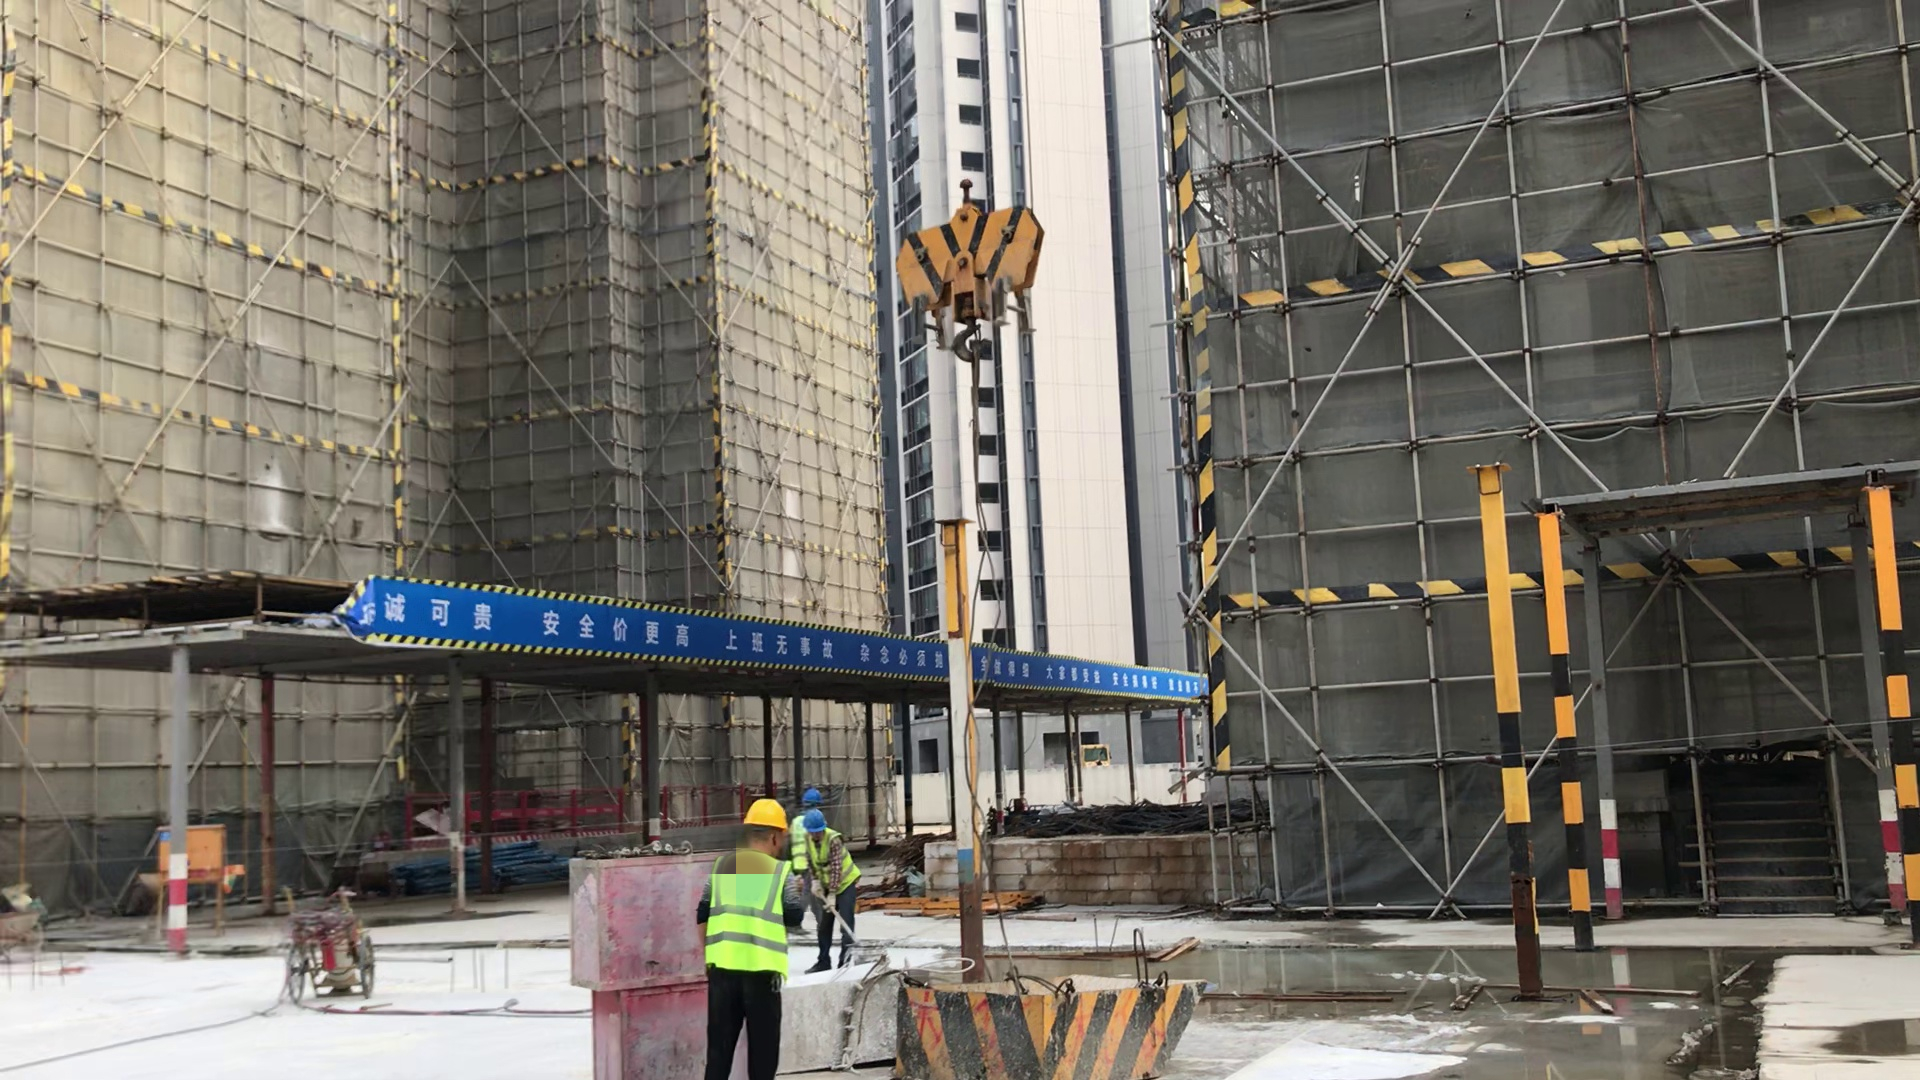ebox: (155, 823, 224, 880)
fence: (406, 785, 746, 849)
handcart: (282, 887, 375, 1011)
helmet: (742, 799, 788, 830), (804, 808, 825, 830), (803, 788, 821, 802)
hook: (897, 177, 1044, 365)
hopper: (896, 973, 1206, 1080), (777, 942, 956, 1080)
person: (698, 798, 806, 1080), (803, 809, 859, 973), (790, 789, 827, 935)
slogan: (352, 577, 1201, 707)
vest: (704, 852, 788, 976), (811, 832, 859, 894)
